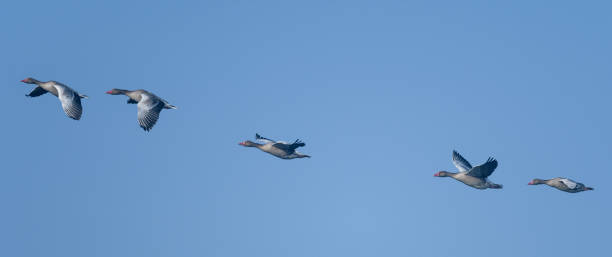goose: (102, 85, 178, 135), (14, 74, 90, 121), (431, 150, 507, 195), (235, 132, 317, 165), (525, 174, 595, 195)
